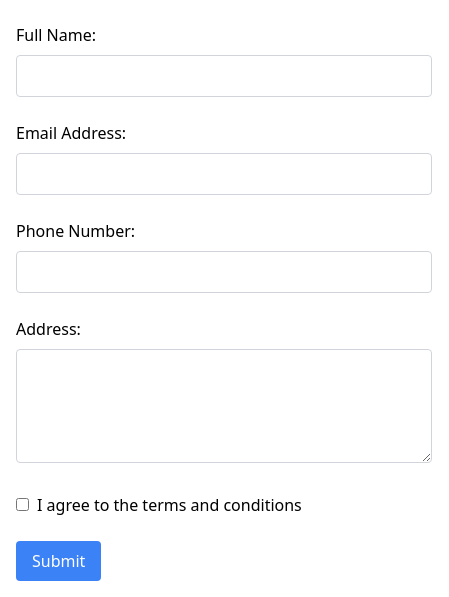
it: Tests for Reservation form › displays error message if terms and conditions checkbox is not checked
(page scrolled)
Click the button "Submit" at (59, 561), box [16,541,101,581]
(page scrolled)
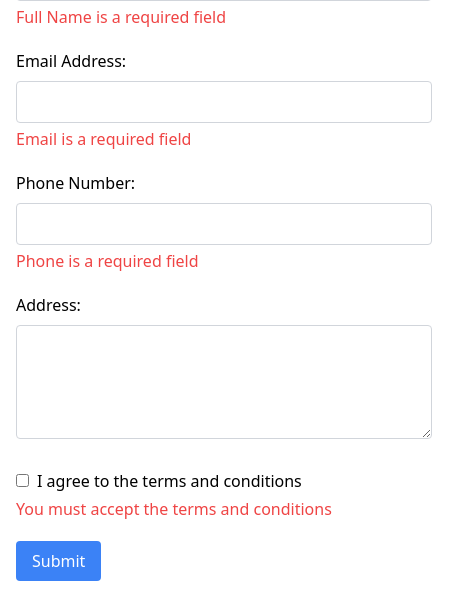
Check: the text "You must accept the terms and conditions" is shown, box [16,498,332,520]
